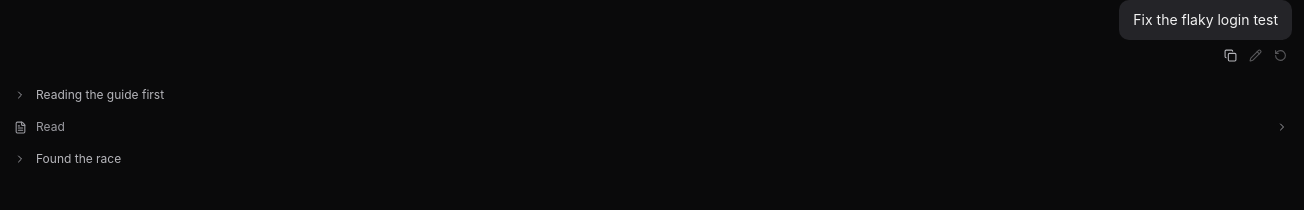
Scenario: AgentTimeline › keeps every note collapsed until it is opened, including the newest of a live turn
Expected: the text "It is in the refresh path." is not shown
Click the button "Found the race": point(79, 159) x1=12 y1=145 x2=1292 y2=173
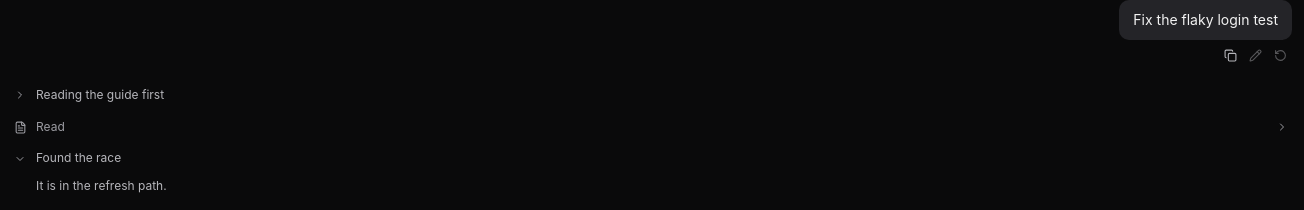
Expected: the text "It is in the refresh path." is shown, x1=36 y1=178 x2=167 y2=193
